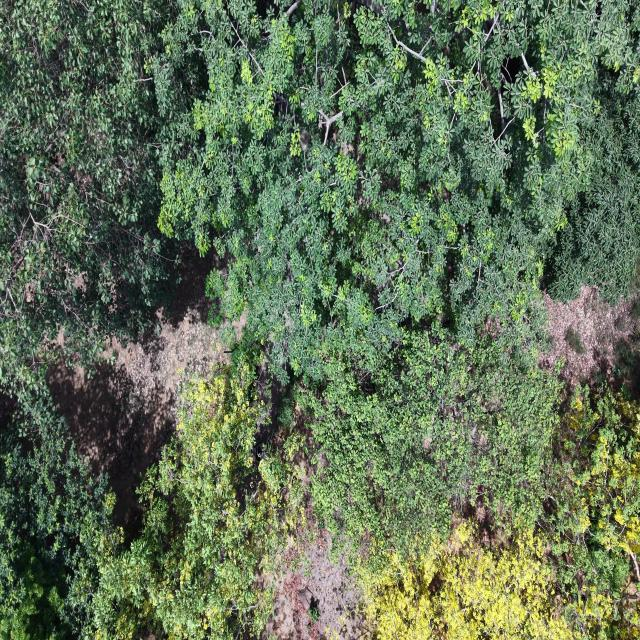DRY_AREA: (47, 259, 228, 538), (47, 256, 228, 534), (48, 275, 228, 535), (48, 301, 228, 537), (48, 310, 228, 530), (259, 407, 370, 639), (263, 531, 370, 639), (263, 531, 369, 639), (539, 287, 639, 397)
VEGETATION_TREE: (0, 0, 639, 639), (159, 2, 639, 548), (154, 0, 639, 378), (0, 0, 175, 639), (289, 332, 639, 638), (360, 389, 639, 639), (0, 0, 175, 390), (300, 328, 560, 553), (94, 365, 290, 639), (0, 397, 116, 639), (361, 523, 575, 639), (540, 389, 639, 638), (545, 76, 639, 302)
